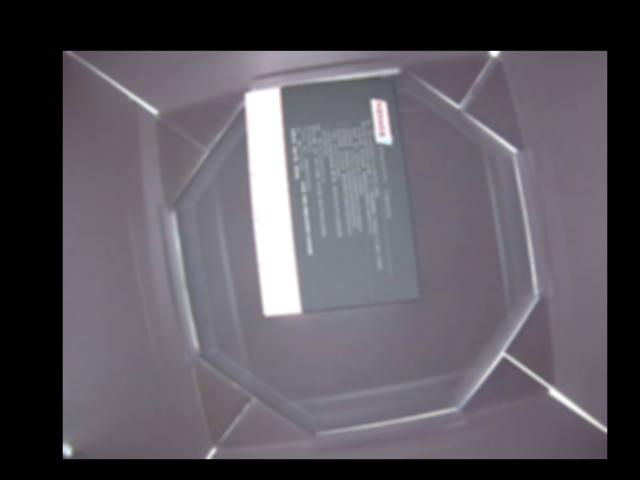Medicine: (243, 79, 423, 317)
